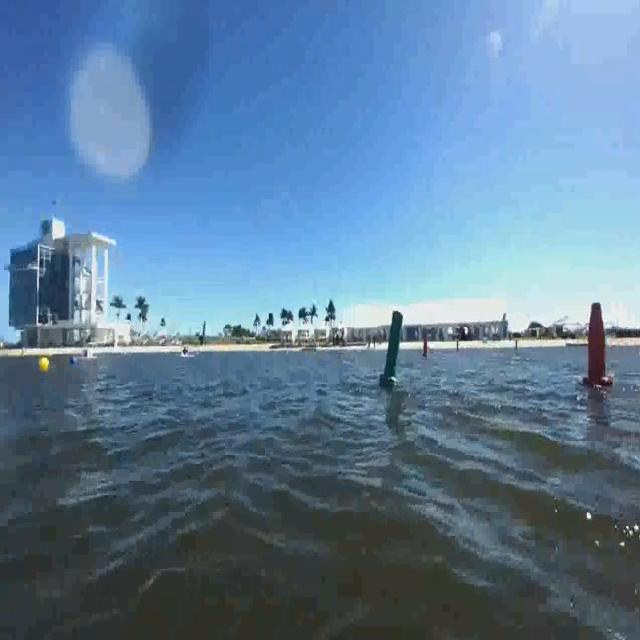blue-buoy: (70, 356, 76, 367)
green-column-buoy: (381, 308, 408, 389)
red-column-buoy: (584, 300, 614, 390), (421, 332, 431, 360)
yellow-buoy: (39, 356, 50, 374)
